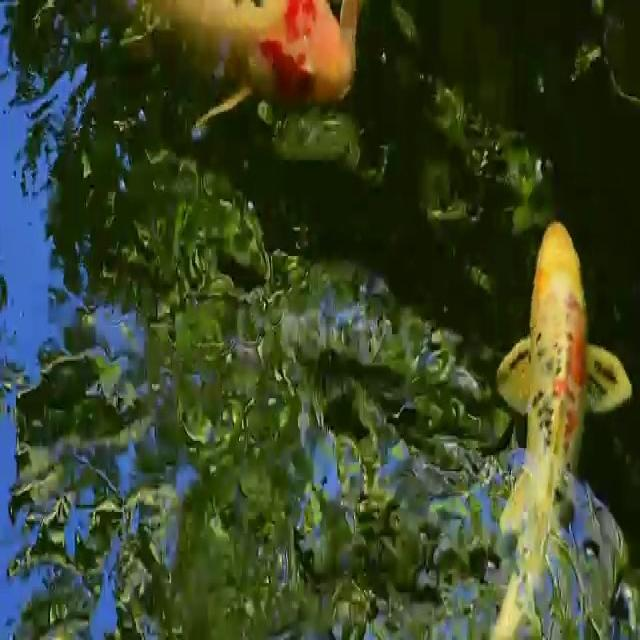fish: (501, 199, 635, 640), (119, 0, 361, 134)
